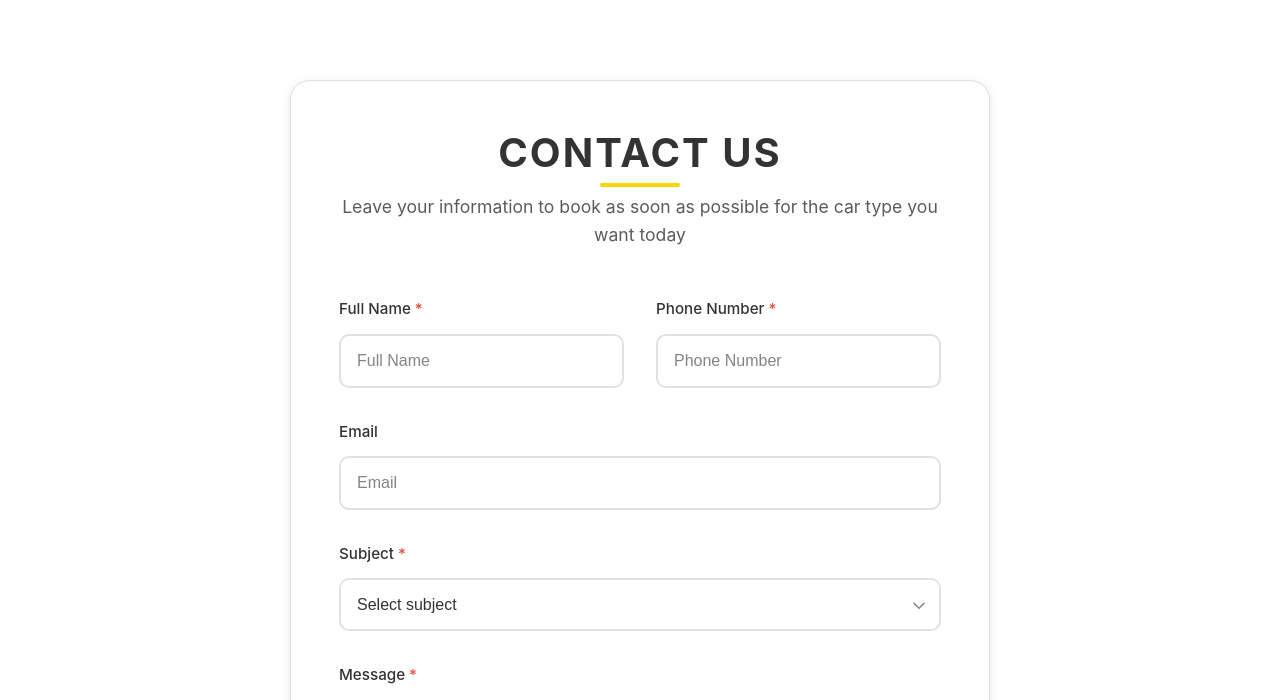
Test: ConsultationForm Component › shows success notification after form submission
Fill all required fields
Type "John Doe" into the field labelled "Full Name *" at [482, 361], box [339,334,624,388]
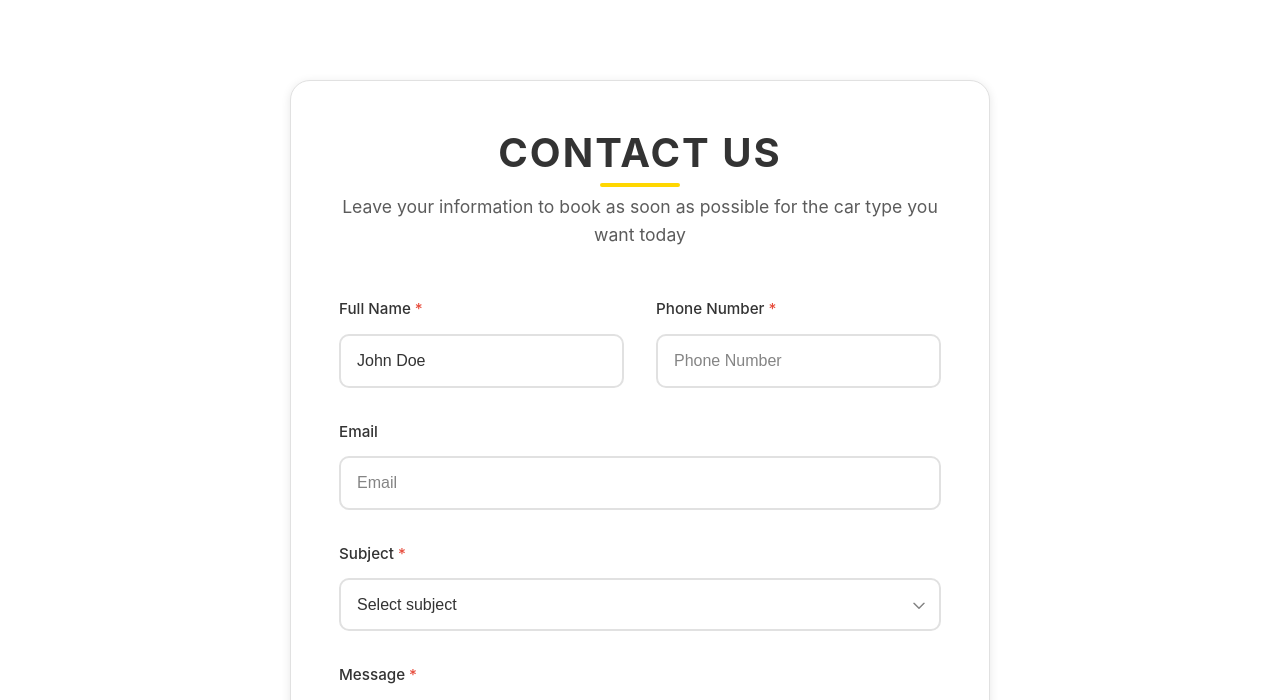
Type "0901234567" into the field labelled "Phone Number *" at [798, 361], box [656,334,941,388]
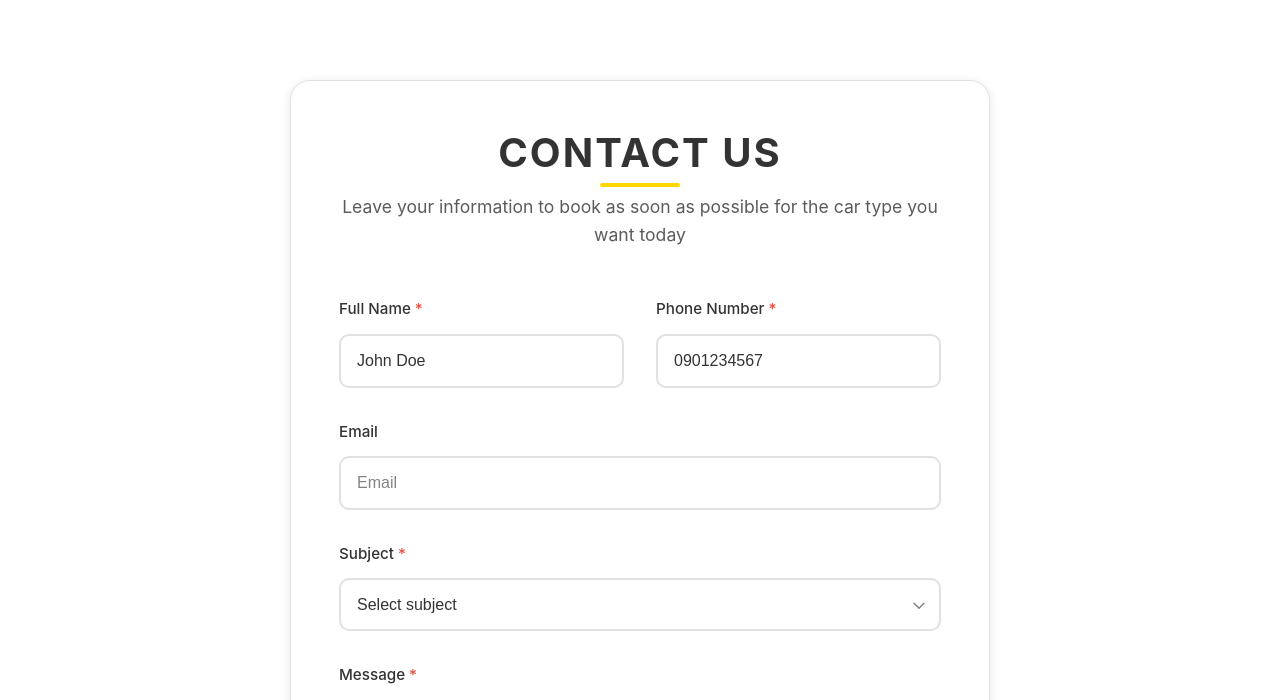
Select "Car Rental" in the dropdown labelled "Subject *" at [640, 605], box [339,578,941,631]
(page scrolled)
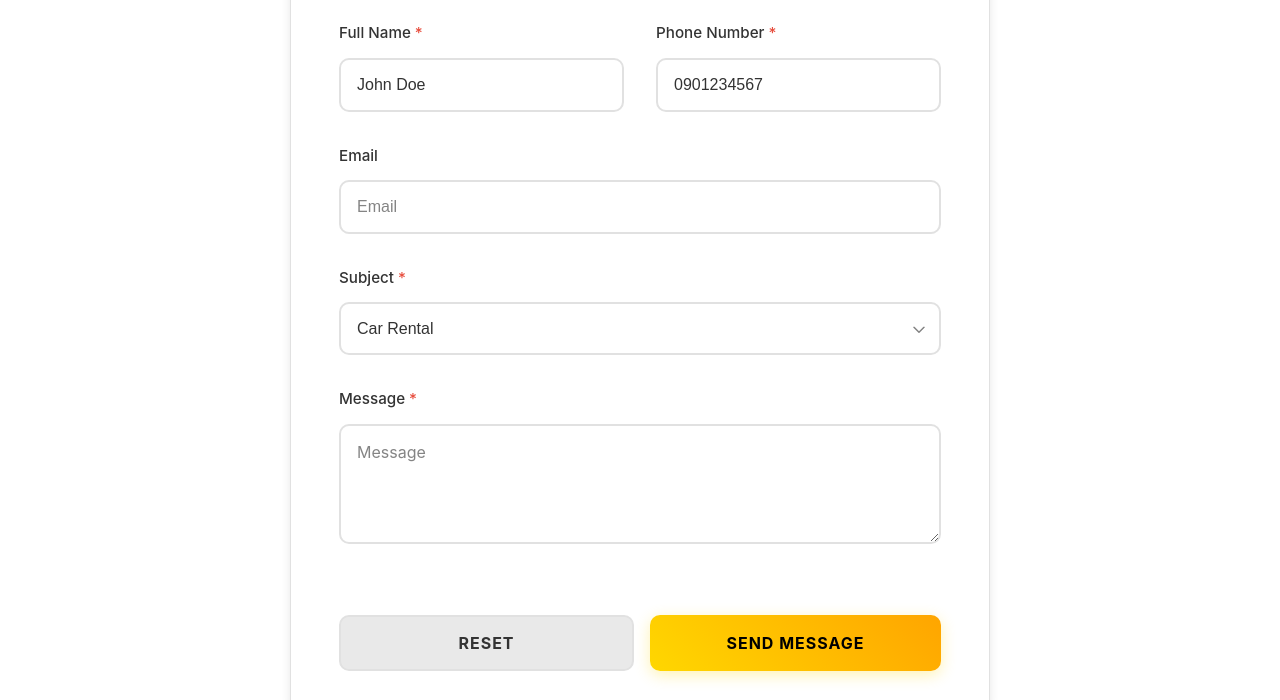
Type "Test message" into the text box labelled "Message *" at [640, 484], box [339,424,941,544]
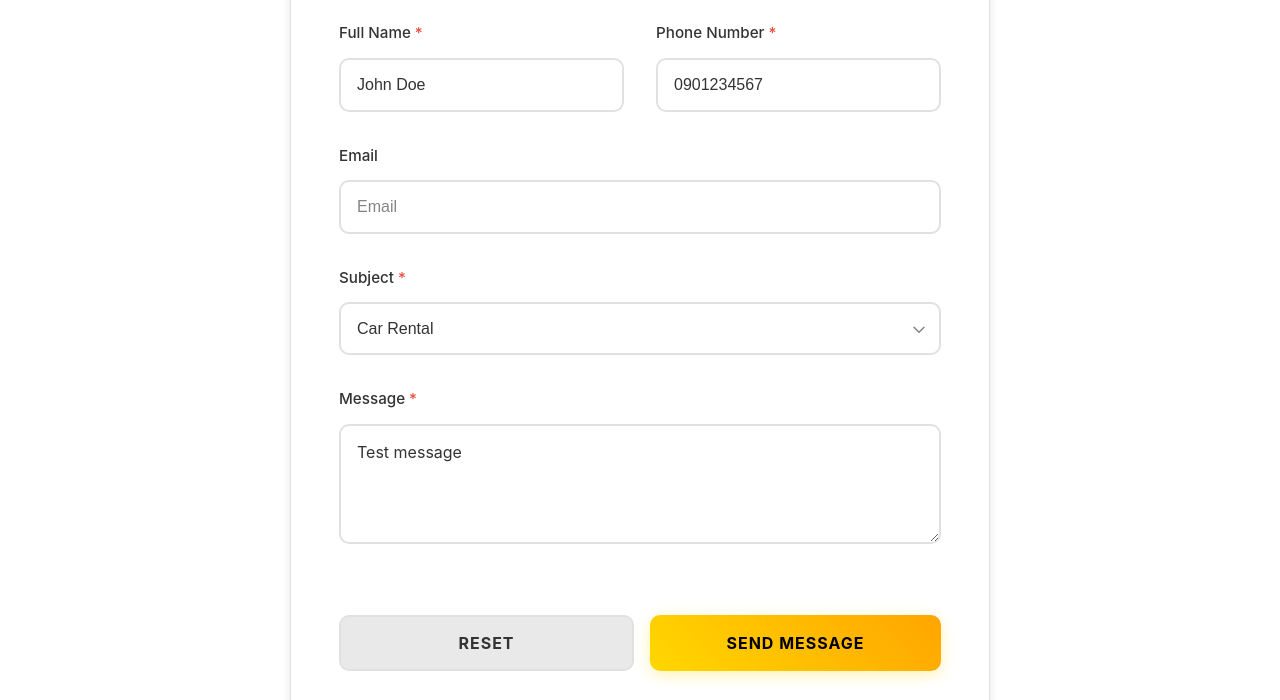
Click the button "Send Message" at [796, 643], box [650,615,941,671]
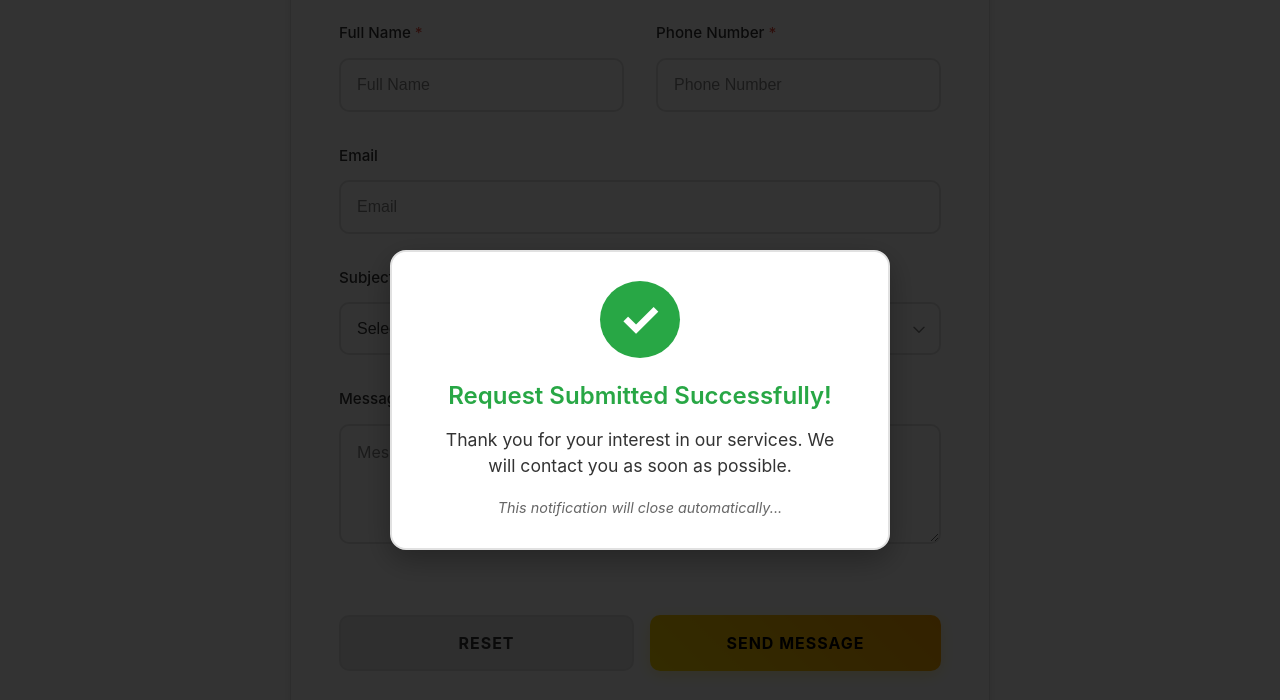
Check: the heading "Request Submitted Successfully!" is shown, box [448,382,832,411]
